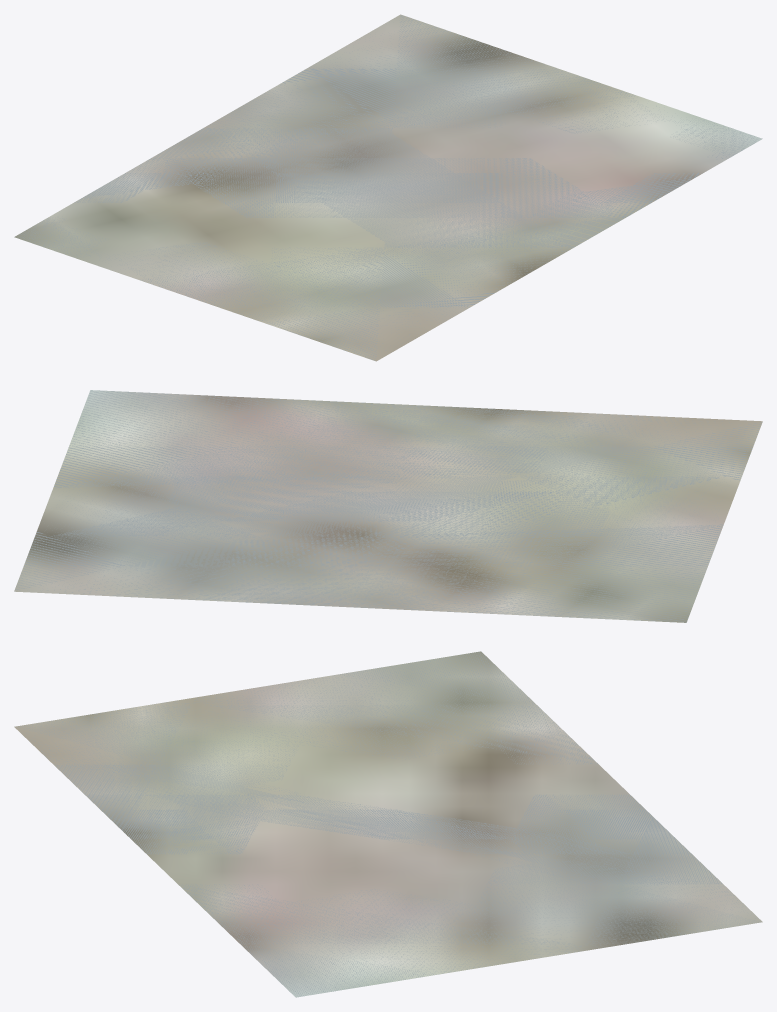
The model's file is 西庸城堡456.dae.
The picture shows the model from 3 angles, top to bottom: view 1: azimuth 30°, elevation 25°; view 2: azimuth 150°, elevation 25°; view 3: azimuth 270°, elevation 25°; orthographic projection. The views are drawn at different scales.
Visible parts, largest first — view 1: SketchUp; view 2: SketchUp; view 3: SketchUp.
Part boxes in pixels (box(x1,y1,x2,y2)): SketchUp: box(14, 14, 762, 361); SketchUp: box(14, 390, 762, 622); SketchUp: box(14, 651, 762, 997).
Bounding box in the file's own units: 48.44 × 44.28 × 0.
